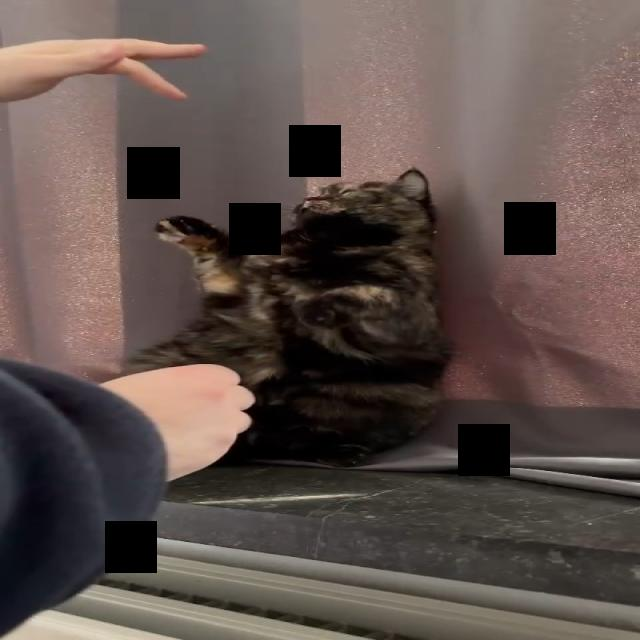authorized: (110, 166, 454, 468)
